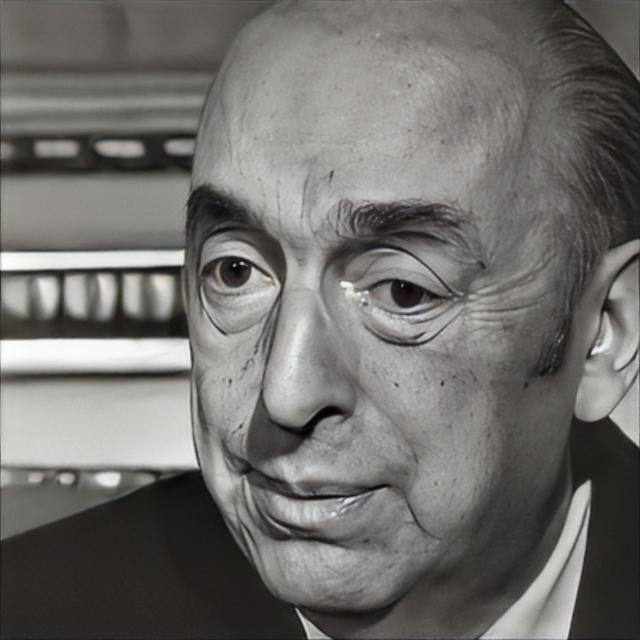sad: (178, 0, 575, 621)
